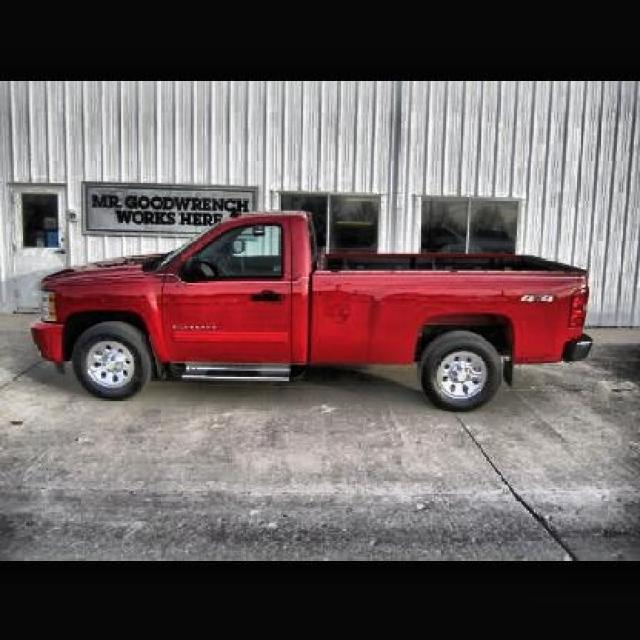red: (61, 187, 628, 406)
